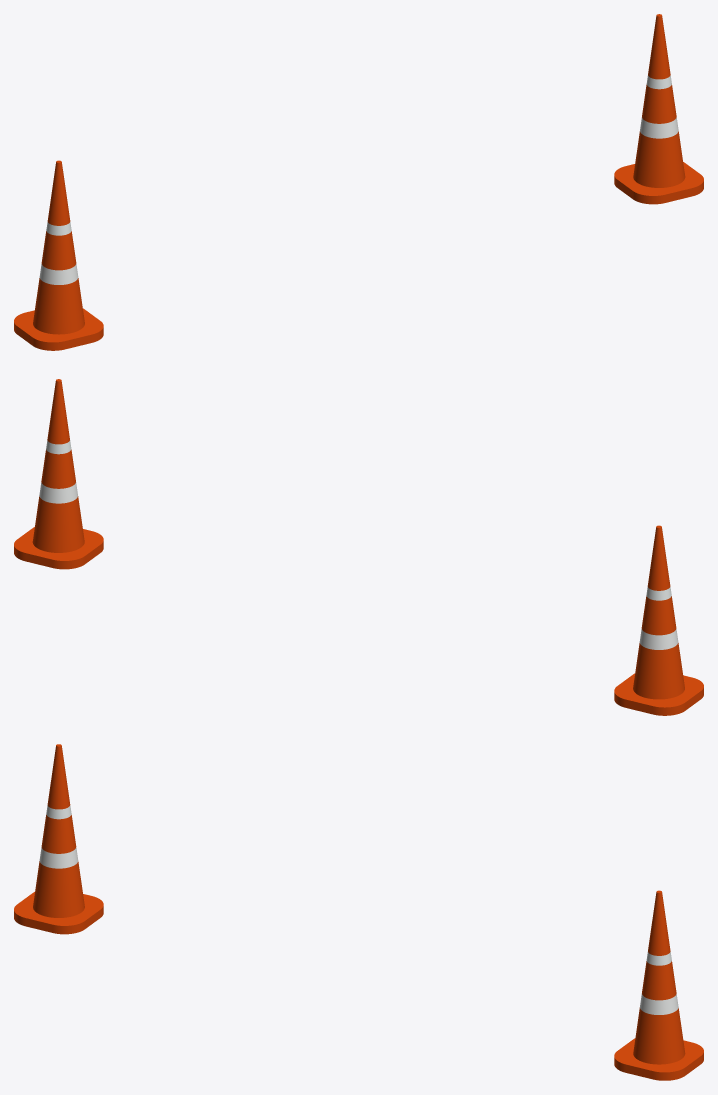
The model's file is Conos 3.5m.fbx.
3 renders of one model, top to bottom at view 1: azimuth 30°, elevation 25°; view 2: azimuth 150°, elevation 25°; view 3: azimuth 330°, elevation 25°, orthographic.
Parts seen in each view (by area): view 1: Plane.001; view 2: Plane.001; view 3: Plane.001.
Part boxes in pixels (box(x1,y1,x2,y2)): Plane.001: box(14, 14, 703, 350); Plane.001: box(14, 379, 703, 715); Plane.001: box(14, 744, 703, 1080).
Bounding box in the file's own units: 390 × 94.76 × 39.55.
2 materials, 2 textured.
